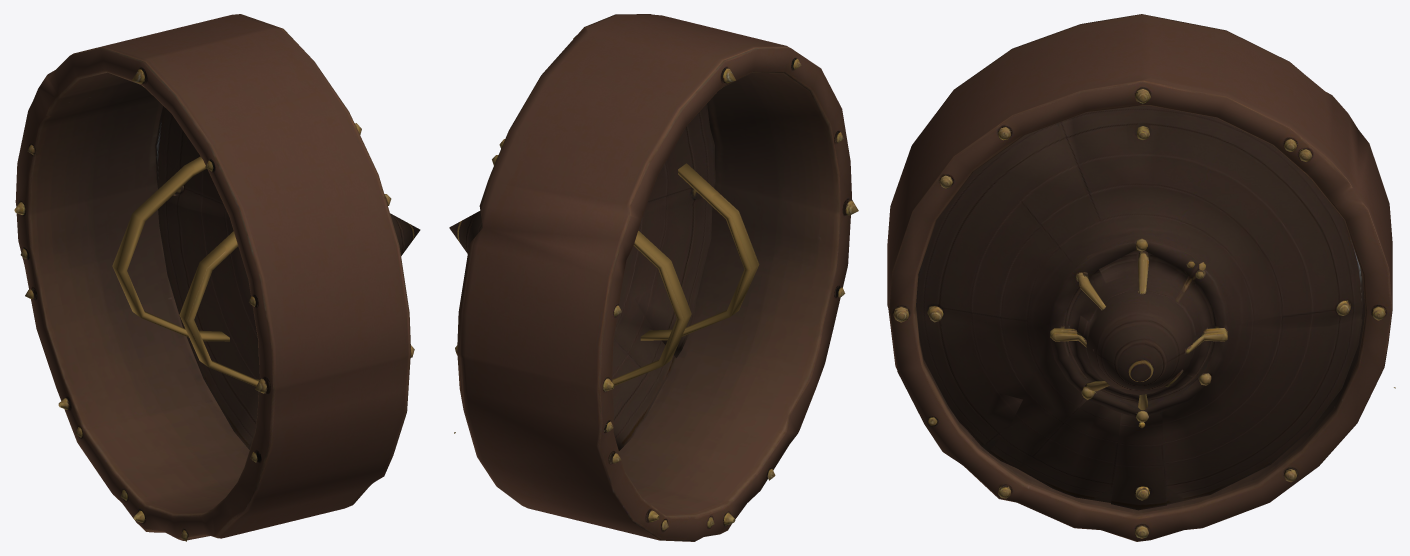
Rendered from gate_buckler.glb.
3 views of the same model, side by side, from view 1: azimuth 30°, elevation 25°; view 2: azimuth 150°, elevation 25°; view 3: azimuth 270°, elevation 25° (orthographic).
Visible parts, largest first — view 1: base_model_path; view 2: base_model_path; view 3: base_model_path.
Boxes of the visible parts, x1,y1,x2,y2 form: base_model_path: (14,14,420,541); base_model_path: (449,14,858,541); base_model_path: (887,14,1395,541).
Size of the model in its own units: 0.6382 by 1 by 0.9885.
1 material, 1 textured.
